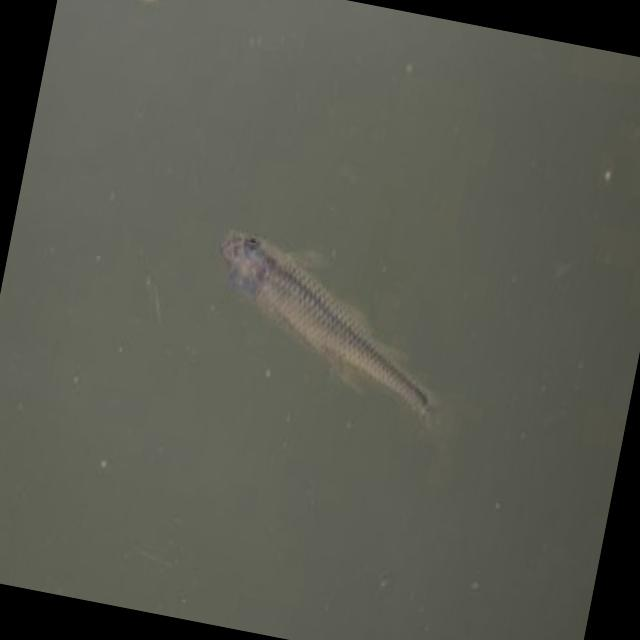Cakil Baligi: (187, 217, 481, 448)
